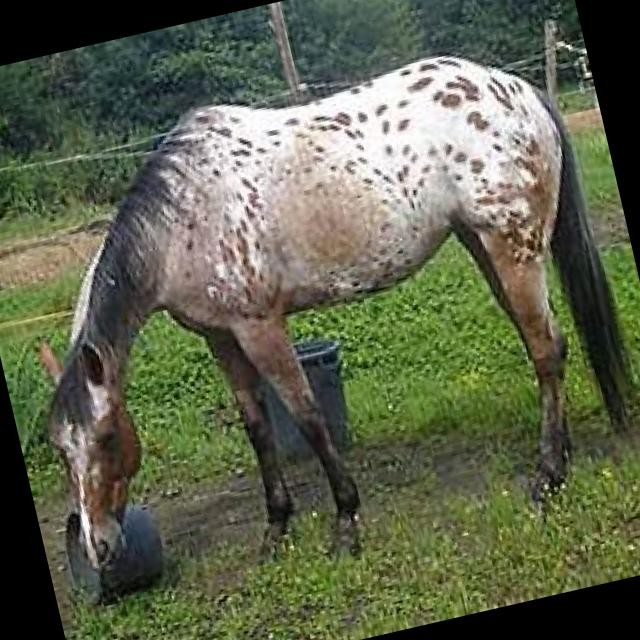animal: (0, 20, 640, 623)
